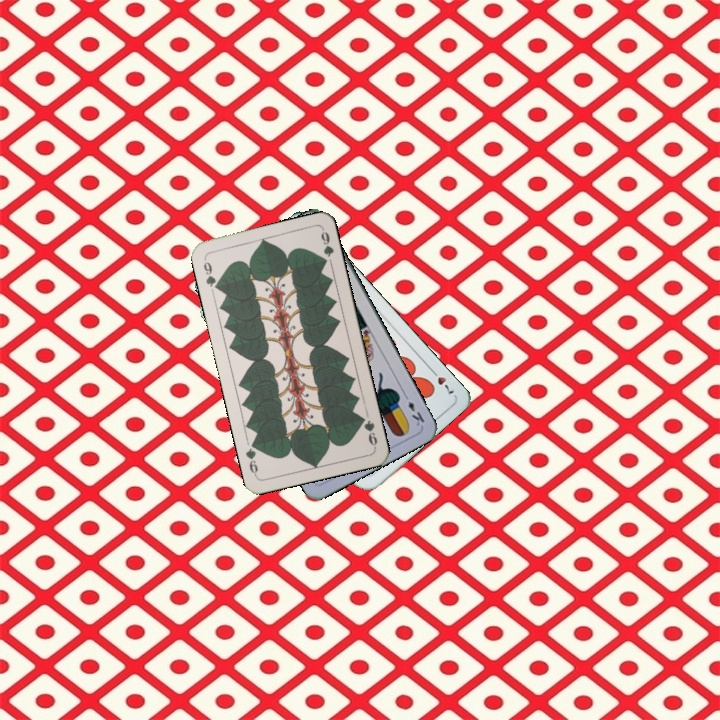EK: (400, 390, 427, 429)
G9: (356, 412, 380, 450), (199, 255, 222, 293)
H7: (426, 364, 457, 397)
